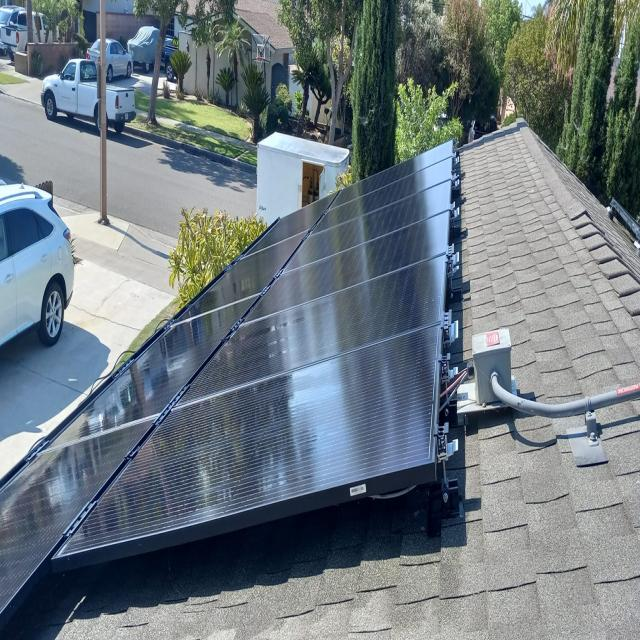clean-solar-panel: (1, 145, 451, 628)
